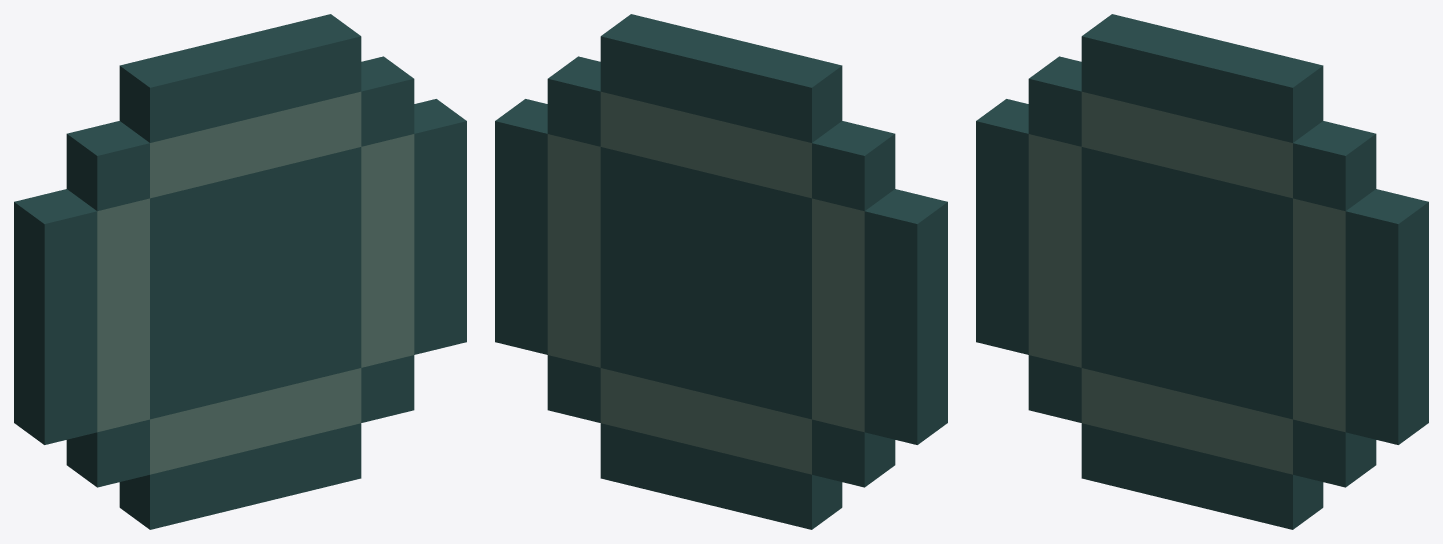
Rendered from Coin_Small_3.obj.
3 renders of one model, left to right at view 1: azimuth 30°, elevation 25°; view 2: azimuth 150°, elevation 25°; view 3: azimuth 330°, elevation 25°, orthographic.
Bounding box in the file's own units: 0.2 × 0.2 × 0.025.
